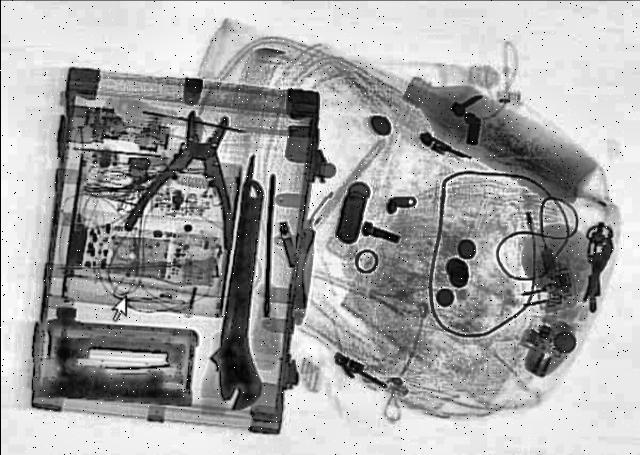Pliers: (124, 106, 266, 247)
Wrench: (204, 178, 288, 410)
